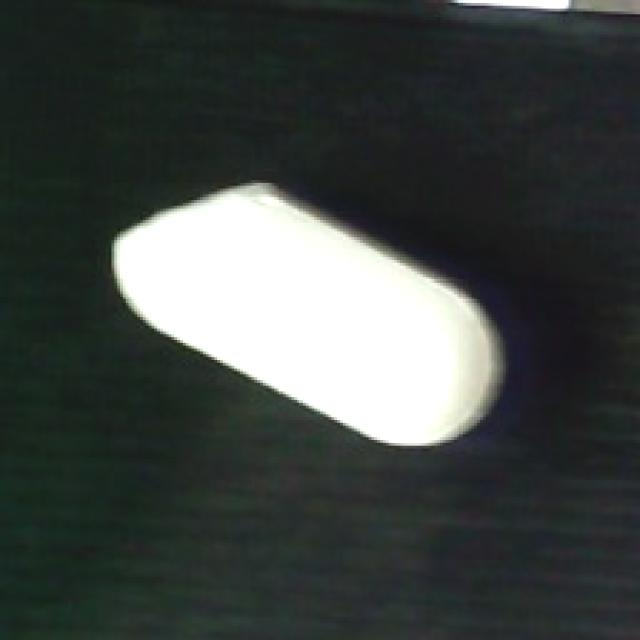defected: (106, 174, 511, 449)
